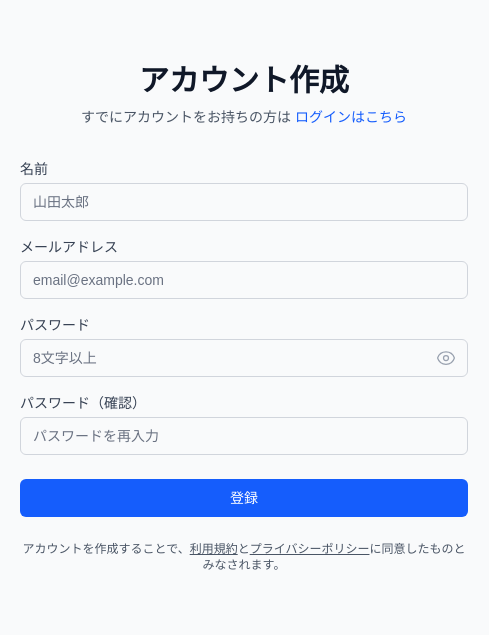
Test: RegisterPage › should show error for short password
The image size is (489, 635).
Step 1. Type "12345" into the password field labelled "パスワード" → (244, 358), box [20,339,468,377]
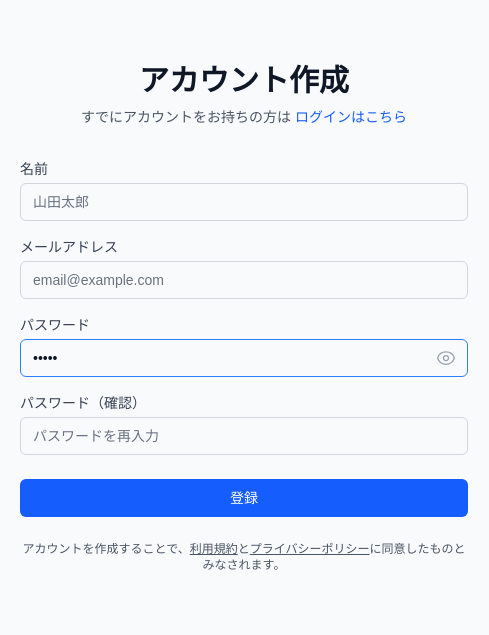
Step 2. Click the button "登録" → (244, 498), box [20,479,468,517]
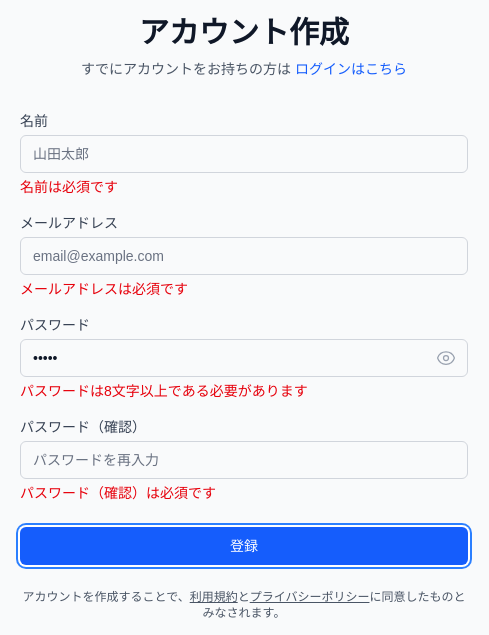
Result: the text "パスワードは8文字以上である必要があります" is shown at [20,383,308,399]
